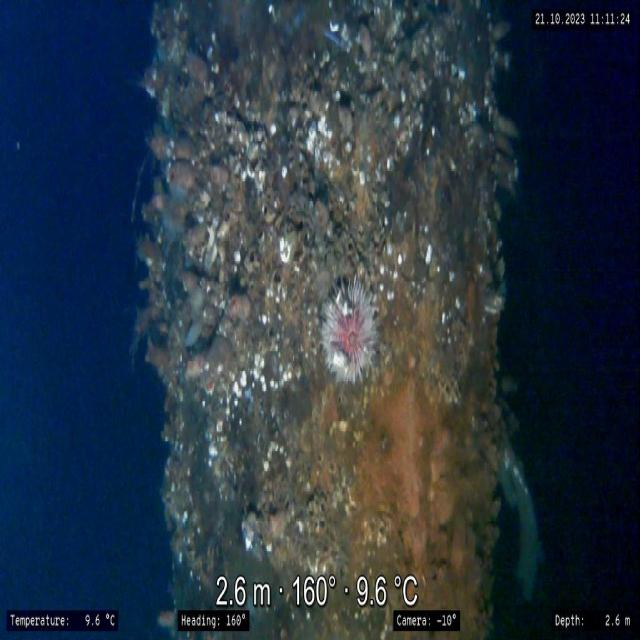Deniz Kestanesi: (319, 273, 379, 384)
